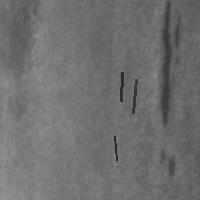inclusion: (155, 1, 184, 130), (155, 143, 177, 180), (131, 77, 138, 115), (112, 134, 118, 162), (119, 70, 124, 103)
